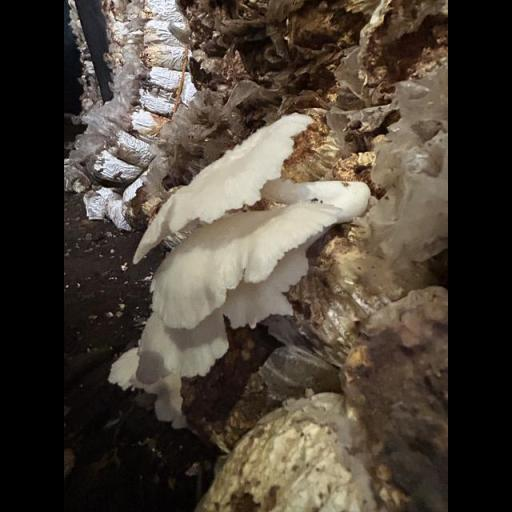White Oyster Mushroom: (109, 110, 371, 430)
